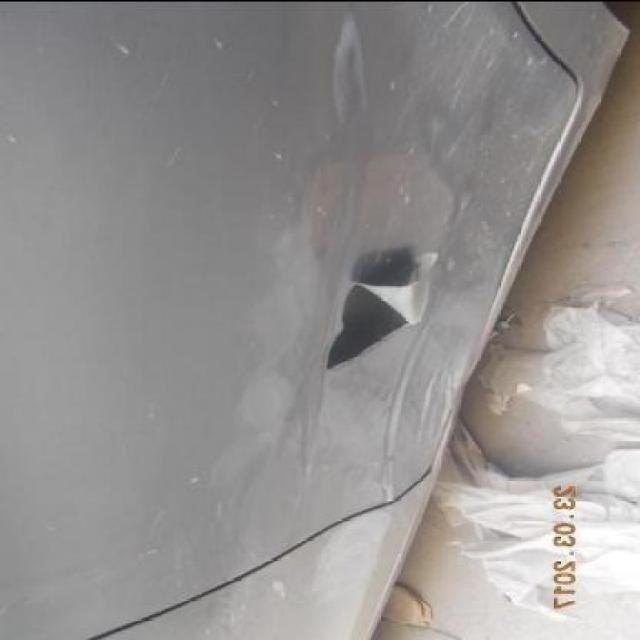damage: (317, 239, 438, 375)
